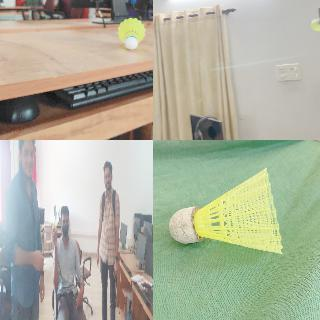shuttlecock: (168, 168, 282, 254), (117, 17, 145, 49), (310, 18, 320, 30), (54, 220, 57, 230)
